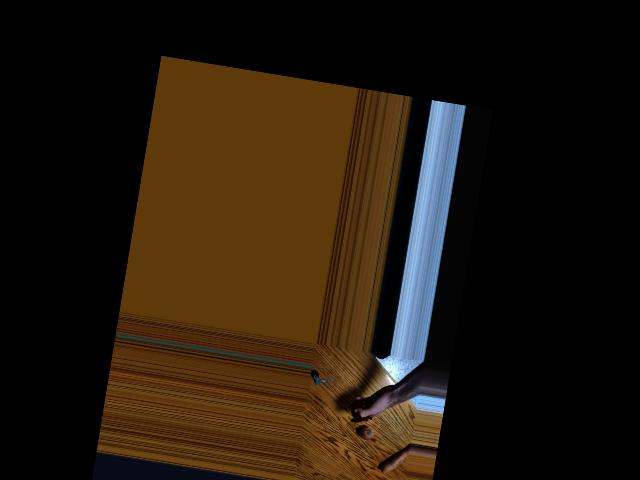onion: (358, 423, 375, 441)
